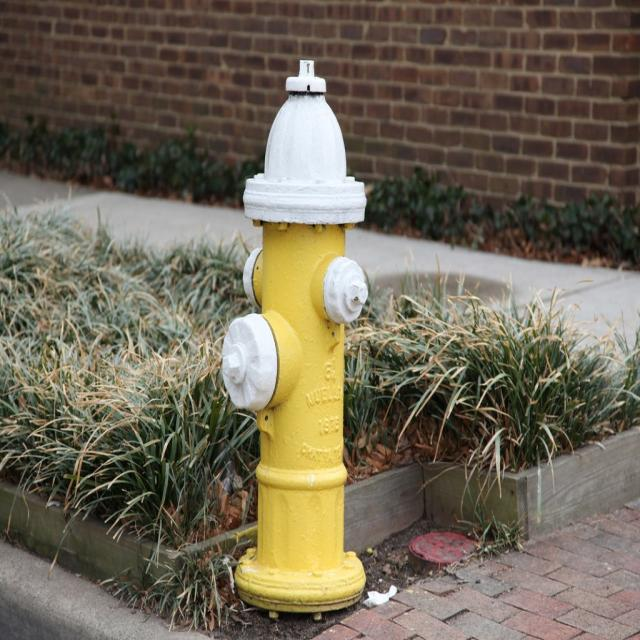fire_hydrant: (220, 61, 368, 616)
